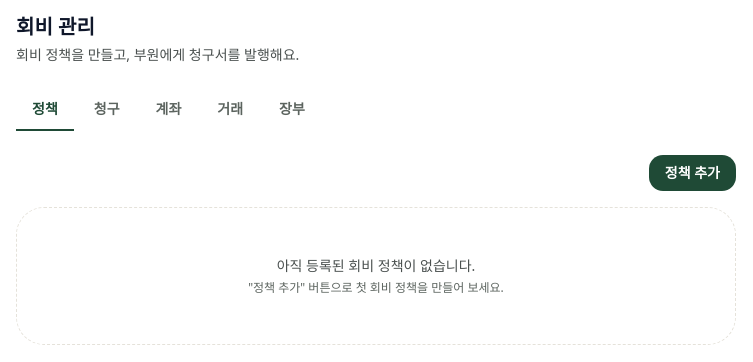
Test case: ClubFeesPage 거래 탭 게이팅 › 사용 가능 여부 조회가 실패하면 미사용으로 단정하지 않고 오류 안내를 노출한다
Click the tab "거래": (230, 110) [201,89,259,131]
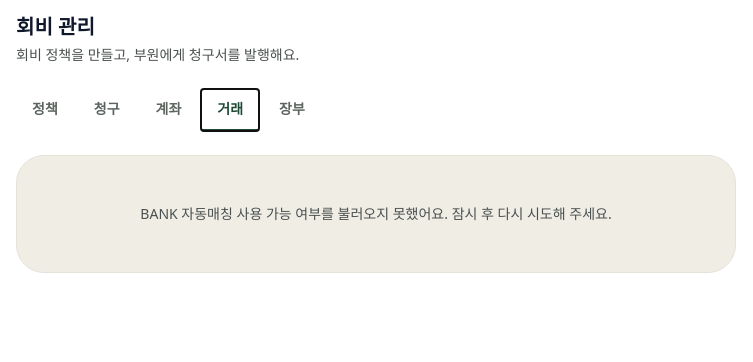
Check: the text "BANK 자동매칭 사용 가능 여부를 불러오지 못했어요. 잠시 후 다시 시도해 주세요." is shown, box [140,204,612,223]
